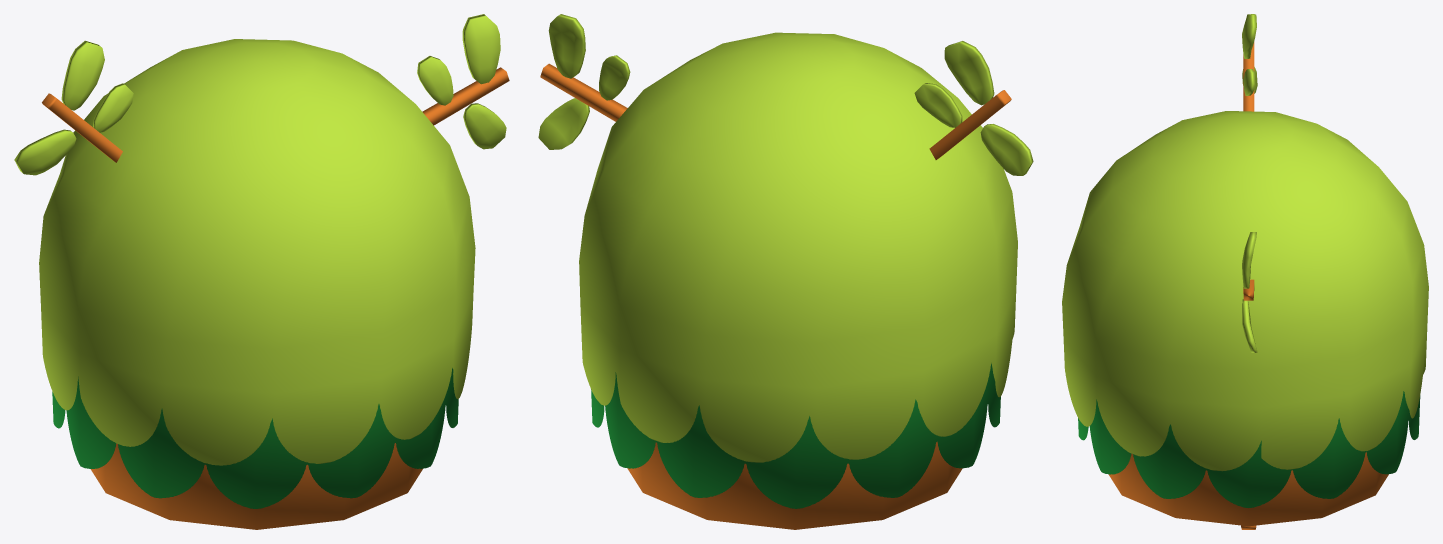
Rendered from EnemyNatureBushHornedLow.fbx.
3 renders of one model, left to right at view 1: azimuth 30°, elevation 25°; view 2: azimuth 150°, elevation 25°; view 3: azimuth 270°, elevation 25°, orthographic. The views are drawn at different scales.
Visible parts, largest first — view 1: EnemyNatureBushHorned3; view 2: EnemyNatureBushHorned3; view 3: EnemyNatureBushHorned3.
Boxes of the visible parts, x1,y1,x2,y2 form: EnemyNatureBushHorned3: [14, 14, 509, 529]; EnemyNatureBushHorned3: [538, 14, 1033, 529]; EnemyNatureBushHorned3: [1062, 14, 1428, 529].
Size of the model in its own units: 3.51 by 3.4 by 2.72.
